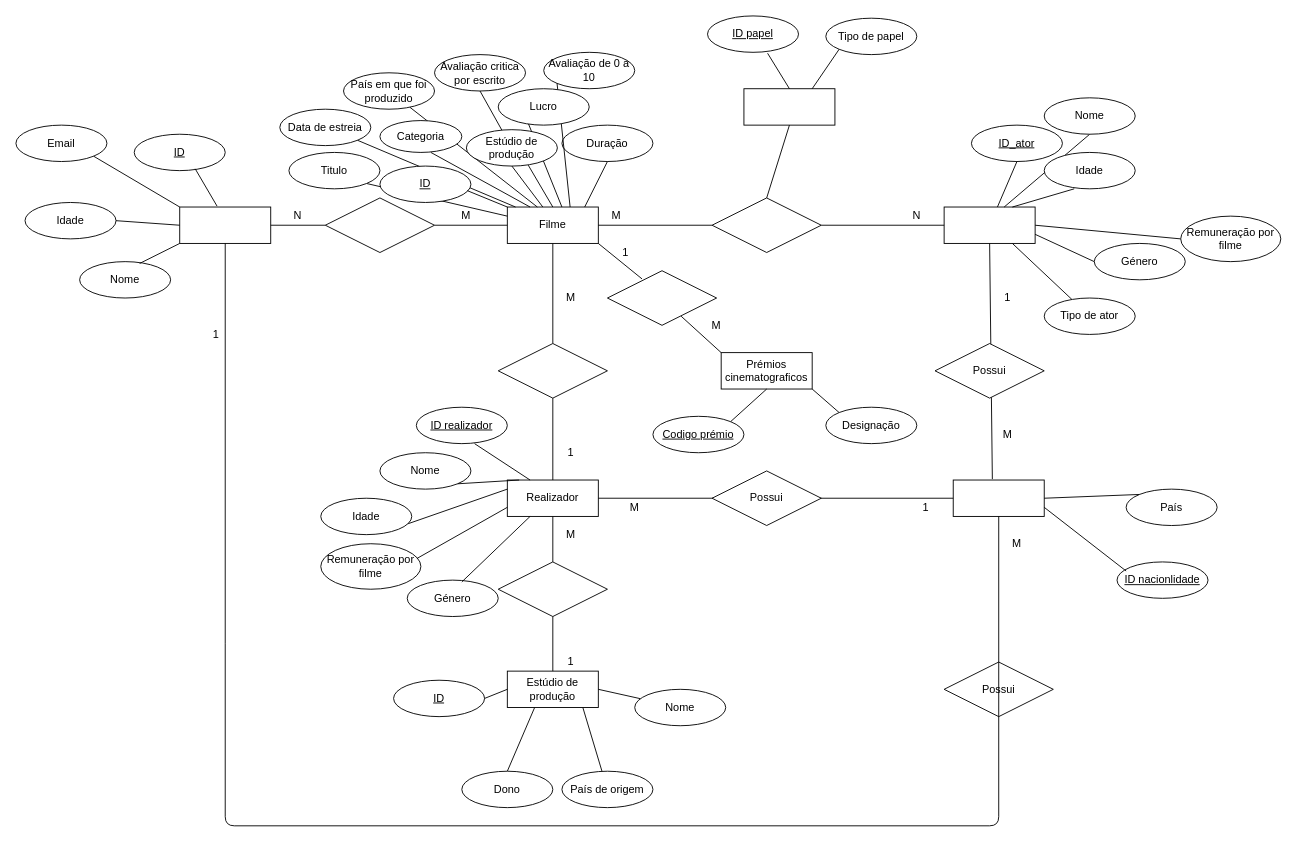
Some shapes in this 1297 by 843 pixel diagram are drawn without their labels. Here are the shapes that lost their labels. From the top down, the box of each, then its label:
(743, 88, 835, 125): Papel
(179, 206, 271, 243): Critico
(324, 197, 435, 253): Avaliam
(711, 197, 821, 253): Integram
(943, 206, 1035, 243): Ator
(607, 270, 717, 325): Ganha
(497, 343, 607, 398): Realiza
(952, 479, 1044, 516): Nacionalidade
(497, 561, 607, 617): Contrata
